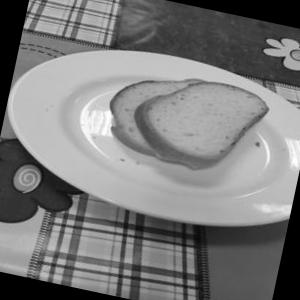bread: (105, 38, 272, 194)
